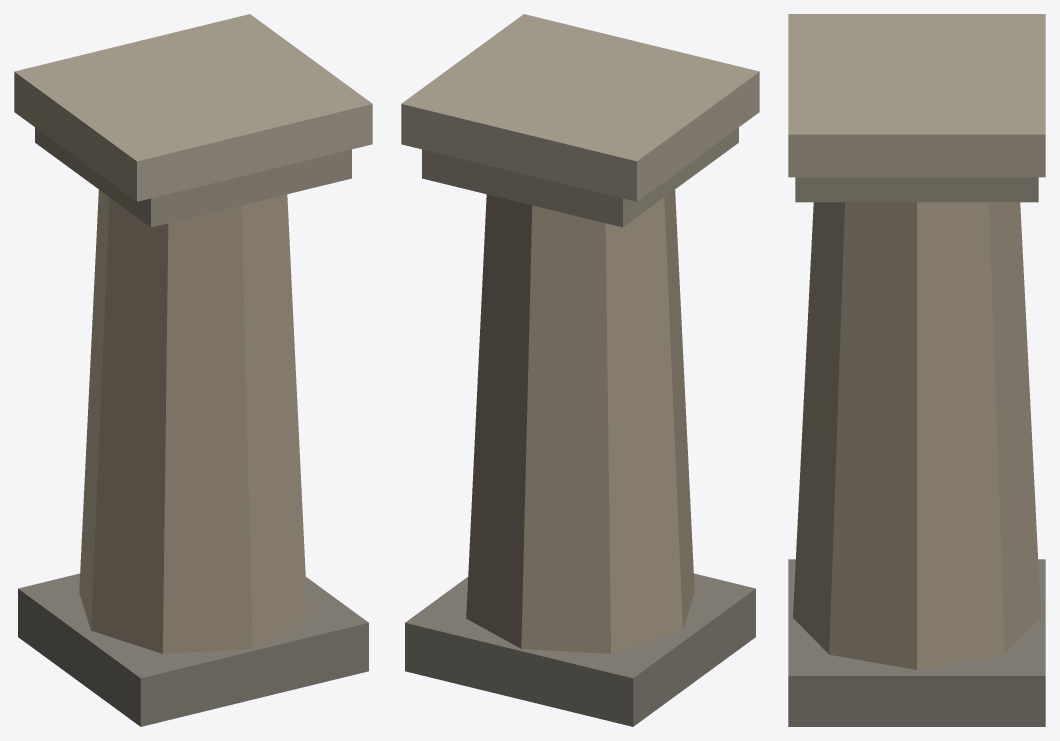
The model's file is Dungeon_Pillar.fbx.
The picture shows the model from 3 angles, left to right: view 1: azimuth 30°, elevation 25°; view 2: azimuth 150°, elevation 25°; view 3: azimuth 270°, elevation 25°; orthographic projection. The views are drawn at different scales.
Parts seen in each view (by area): view 1: Dungeon_Pillar; view 2: Dungeon_Pillar; view 3: Dungeon_Pillar.
Part boxes in pixels (x1=…): Dungeon_Pillar: x1=14, y1=14, x2=372, y2=726; Dungeon_Pillar: x1=401, y1=14, x2=759, y2=726; Dungeon_Pillar: x1=788, y1=14, x2=1045, y2=726.
Bounding box in the file's own units: 1.22 × 2.8 × 1.1.
